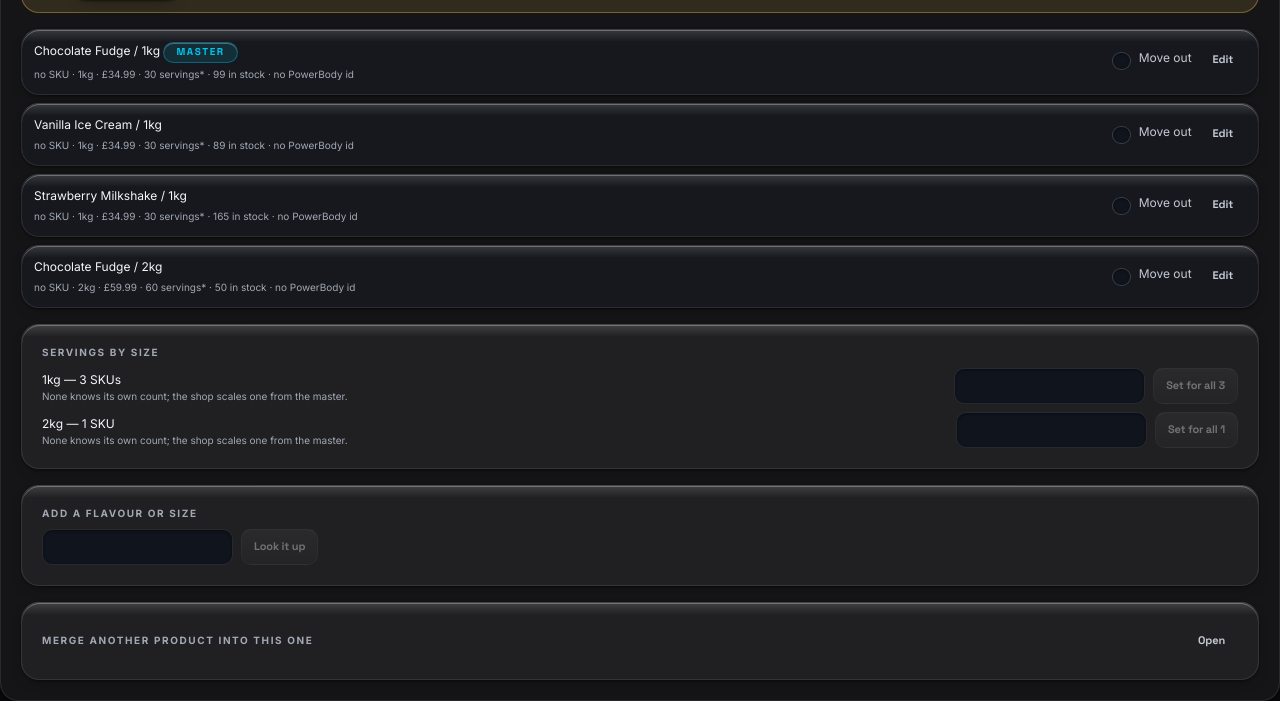
it: merging another product in › shows the link a refusal names, beside the reason
This screenshot has width=1280, height=701.
(page scrolled)
Click the button "Open".
click(1212, 641)  # box [1185,623,1238,659]
(page scrolled)
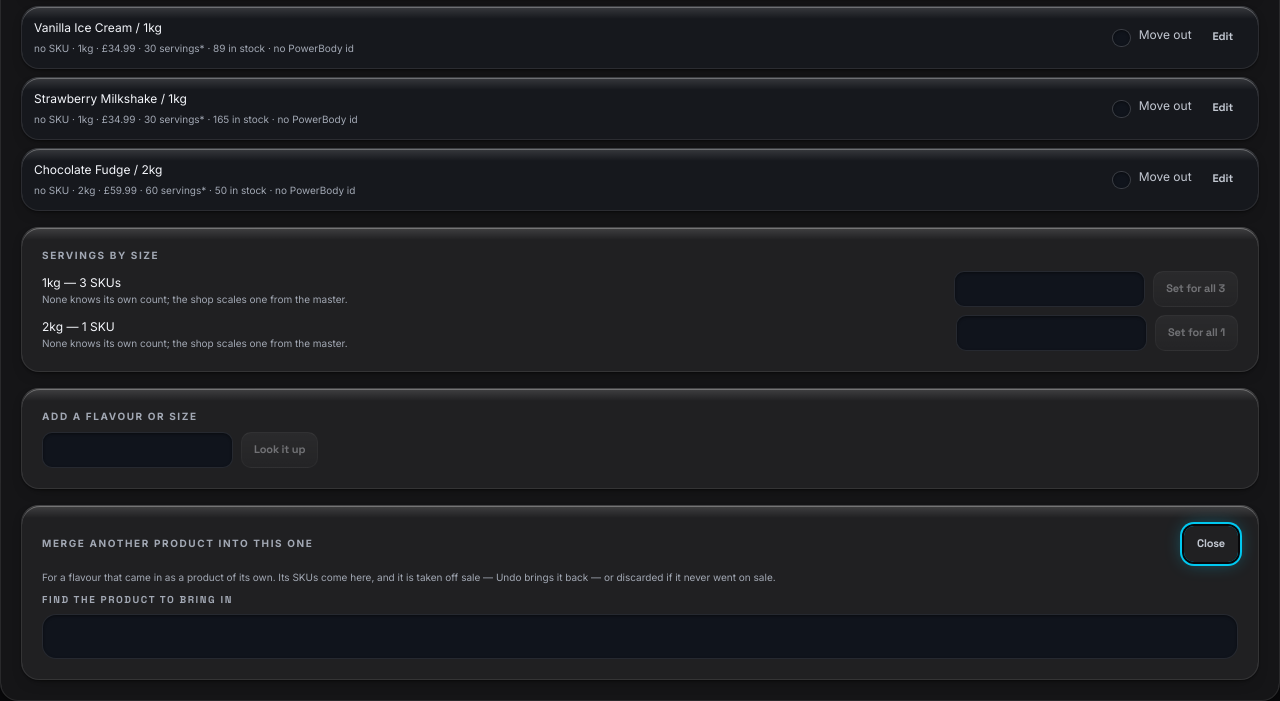
Type "whey" into the search field labelled "Find the product to bring in".
click(640, 637); type("whey")  # box [42,614,1238,659]
(page scrolled)
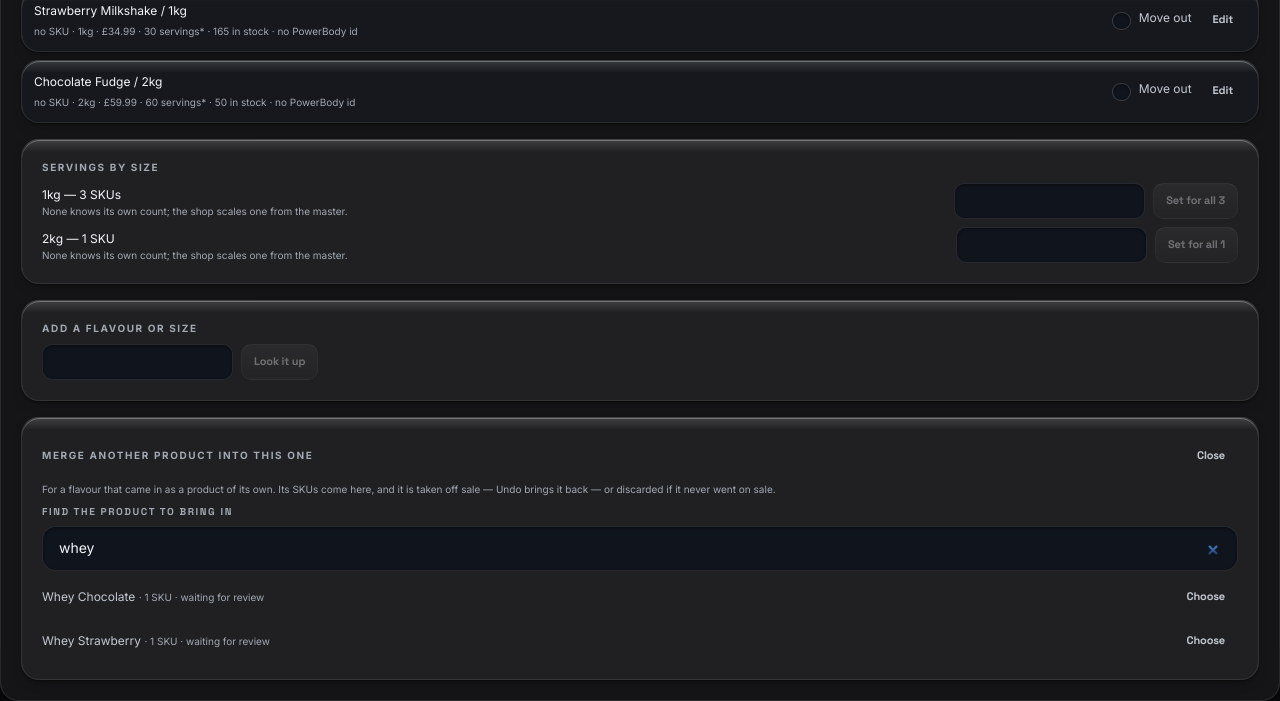
Click the button "Choose" in the row of "Whey Chocolate".
click(1206, 597)  # box [1174,579,1238,615]
(page scrolled)
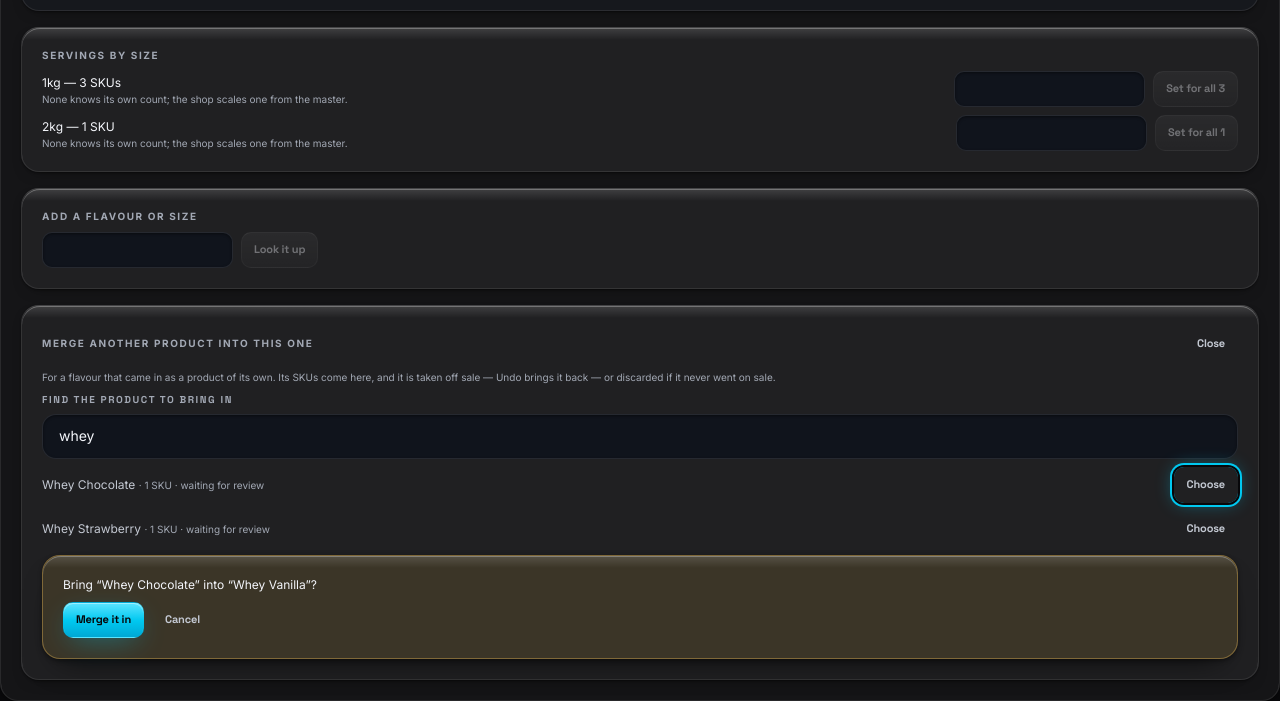
Click the button "Merge it in".
click(104, 620)  # box [63,602,144,638]
(page scrolled)
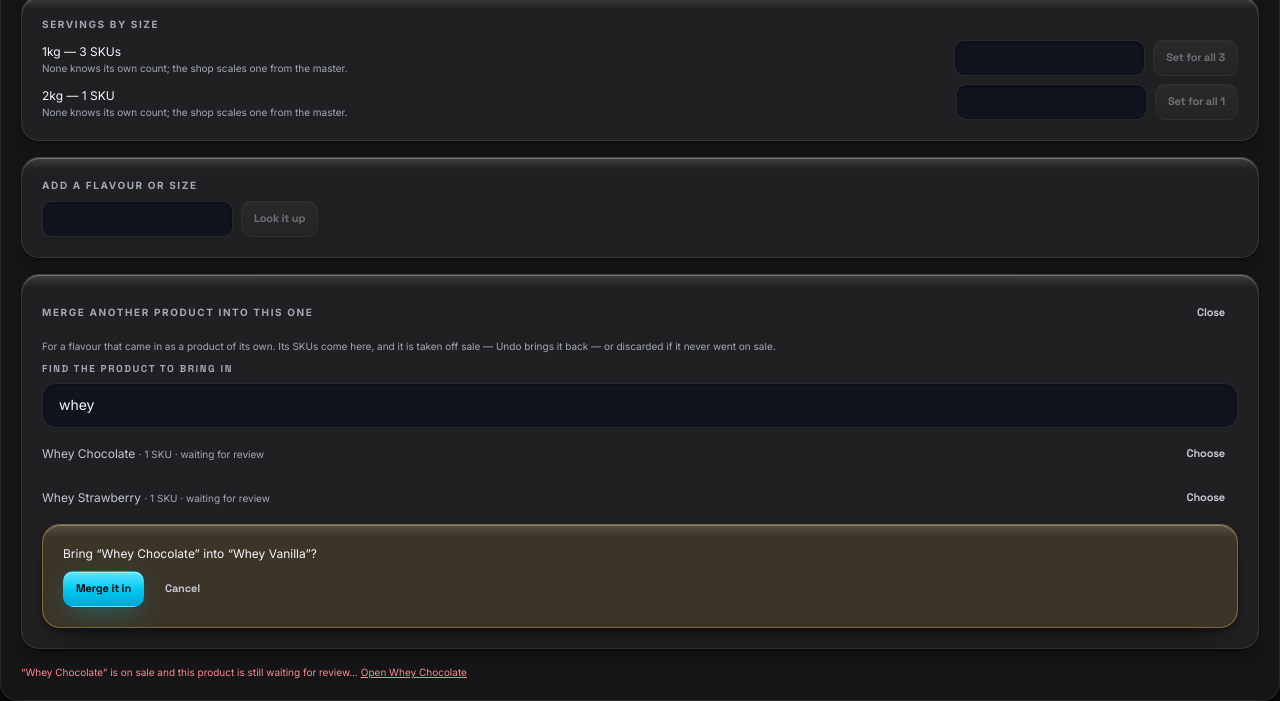
Expected: the message shows "is on sale and this product is still waiting for review", [21,666,358,678]
